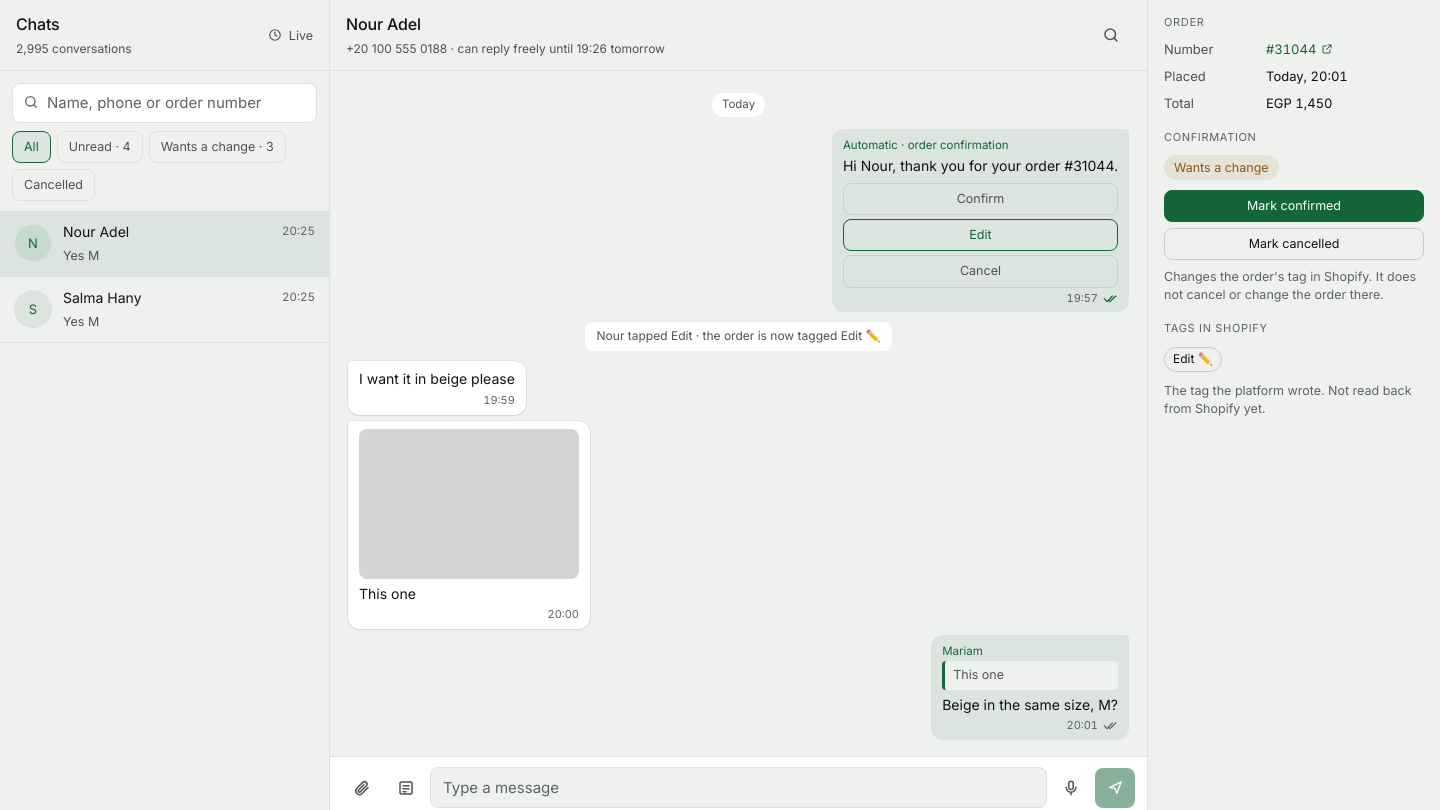
Test: an open chat › says why when the microphone is refused
Click the button named "Record a voice note". click: (1071, 788)
box: [1051,768,1091,808]
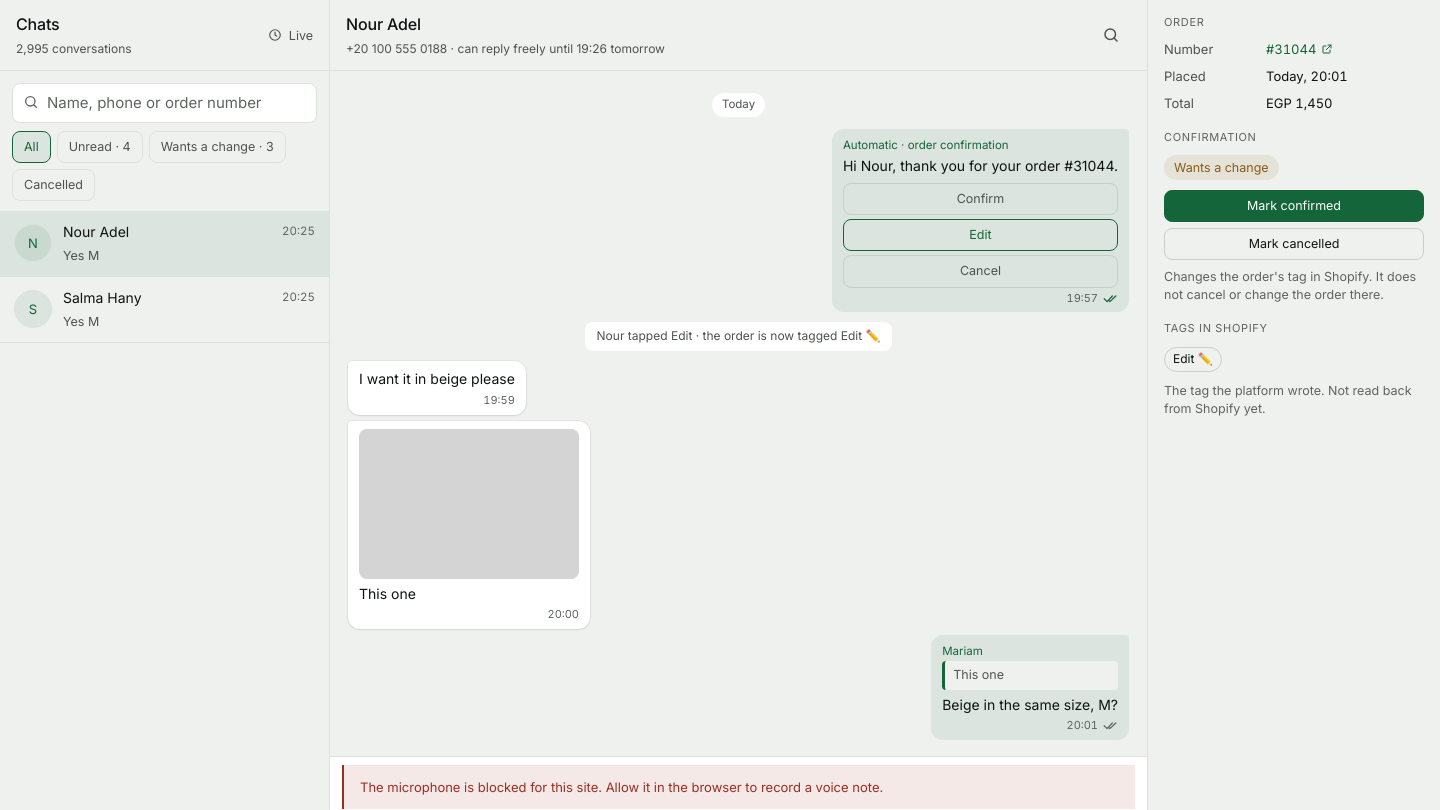
Check: the 2nd message shows "The microphone is blocked for this site.", box [360,779,883,795]
